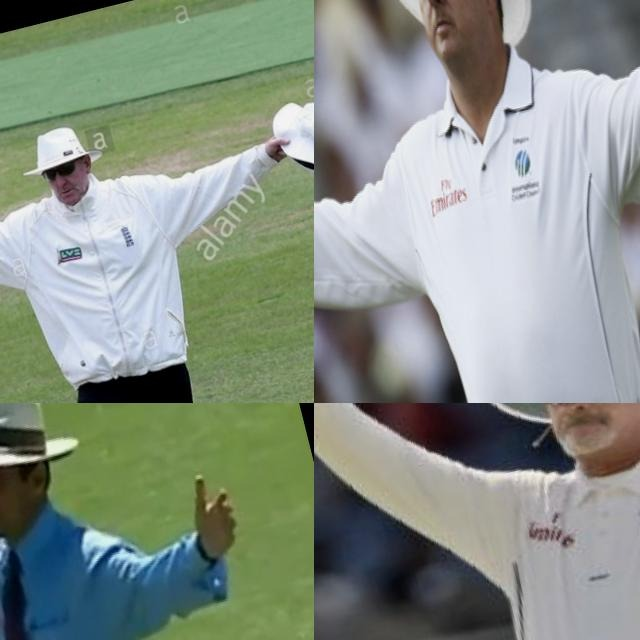Six: (314, 403, 640, 640)
Wide: (314, 0, 640, 403), (0, 36, 314, 403), (0, 403, 313, 640)
